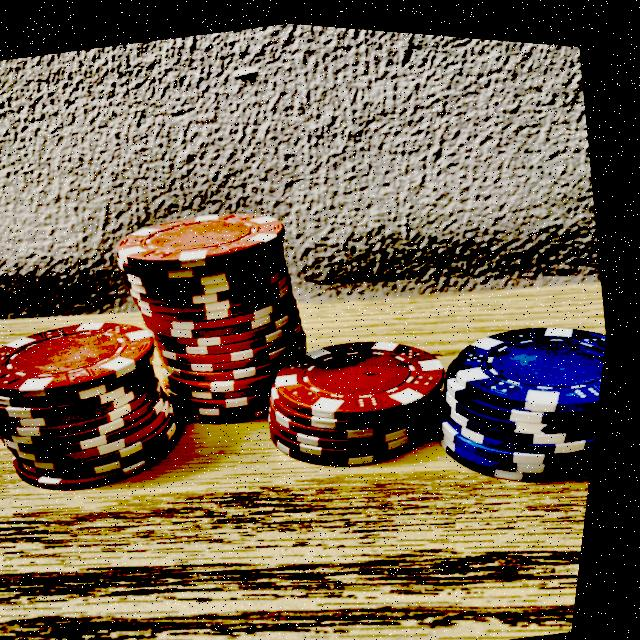Chip: (78, 154, 367, 470), (0, 270, 219, 525), (248, 285, 492, 504), (406, 261, 618, 509)
